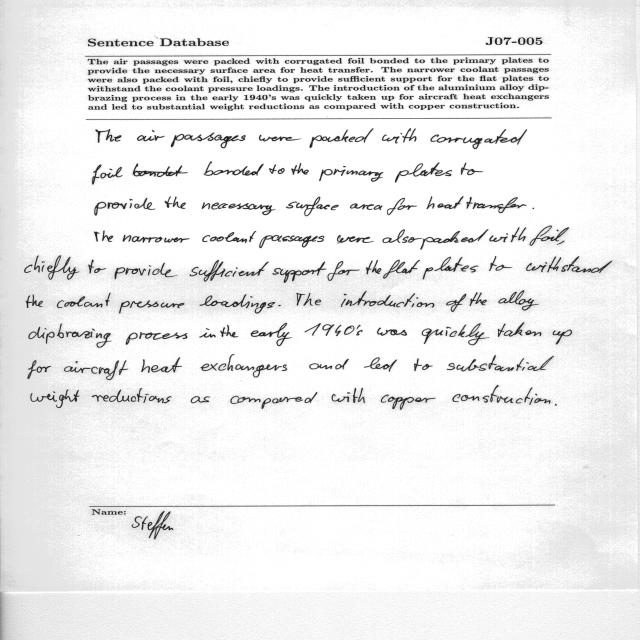word: (47, 324, 187, 347), (92, 164, 188, 185), (452, 385, 551, 405), (201, 355, 287, 378), (431, 129, 528, 149), (447, 355, 554, 372), (190, 260, 269, 282), (200, 294, 275, 314), (231, 392, 318, 409), (527, 256, 613, 273), (421, 229, 489, 250), (466, 322, 525, 345), (310, 128, 374, 148), (64, 360, 128, 380), (27, 256, 80, 280), (377, 327, 451, 344), (423, 257, 479, 279), (171, 133, 246, 149), (92, 388, 172, 403), (395, 163, 452, 183), (273, 262, 327, 283), (319, 166, 383, 182), (95, 198, 155, 215), (115, 263, 178, 279), (341, 291, 404, 307), (286, 197, 339, 216), (467, 197, 527, 213), (202, 203, 275, 216), (251, 323, 292, 346), (204, 161, 264, 176), (381, 394, 435, 410), (259, 235, 324, 248), (119, 301, 184, 314), (446, 292, 487, 312), (57, 293, 111, 308), (499, 291, 539, 311), (530, 226, 569, 246), (383, 260, 420, 279), (141, 357, 182, 373), (202, 231, 256, 243), (328, 261, 360, 281), (47, 390, 80, 409), (383, 229, 423, 243), (490, 227, 526, 242), (123, 235, 190, 243), (382, 129, 417, 144), (387, 198, 417, 215), (364, 357, 397, 372), (332, 388, 365, 403), (427, 196, 464, 209), (200, 325, 239, 337), (309, 359, 349, 370), (305, 323, 334, 336), (96, 129, 122, 143), (489, 256, 512, 271), (297, 293, 322, 306), (137, 131, 165, 142), (335, 325, 363, 336), (337, 235, 374, 243), (553, 330, 572, 345), (165, 196, 186, 209), (461, 163, 483, 175), (259, 135, 301, 141), (89, 260, 107, 274), (414, 358, 433, 371), (26, 294, 43, 308), (350, 203, 382, 210), (291, 163, 309, 175), (366, 260, 381, 274), (94, 231, 113, 242), (450, 325, 467, 337), (404, 293, 418, 307), (269, 164, 285, 174), (191, 396, 210, 403), (417, 302, 434, 308), (525, 331, 541, 337), (557, 241, 564, 245), (47, 366, 51, 369), (555, 404, 557, 406), (278, 305, 281, 306), (533, 208, 534, 209)
